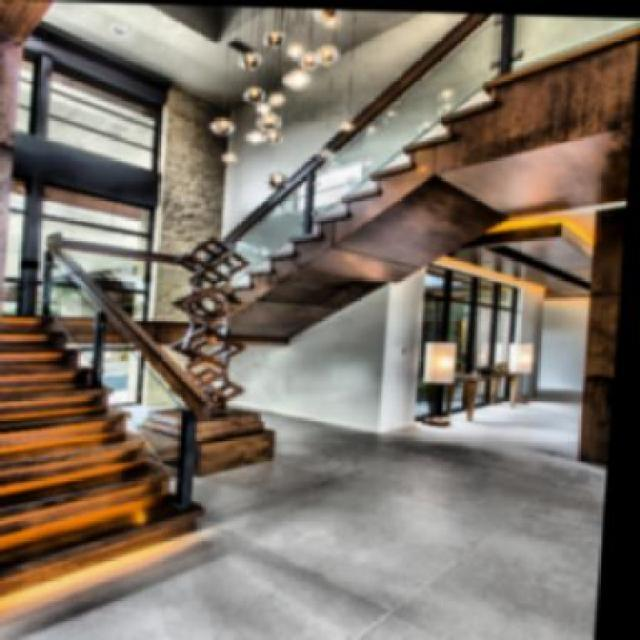stair: (0, 300, 222, 603)
